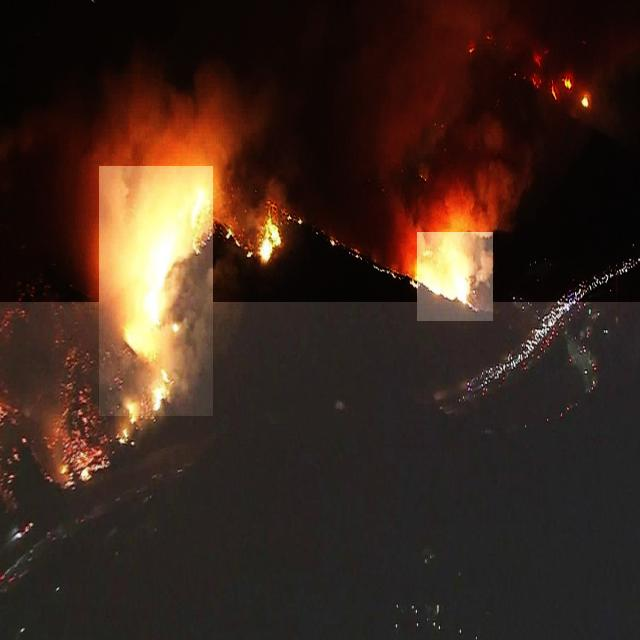Fire: (99, 166, 213, 416), (417, 232, 493, 321)
Smoke: (0, 0, 640, 302)
